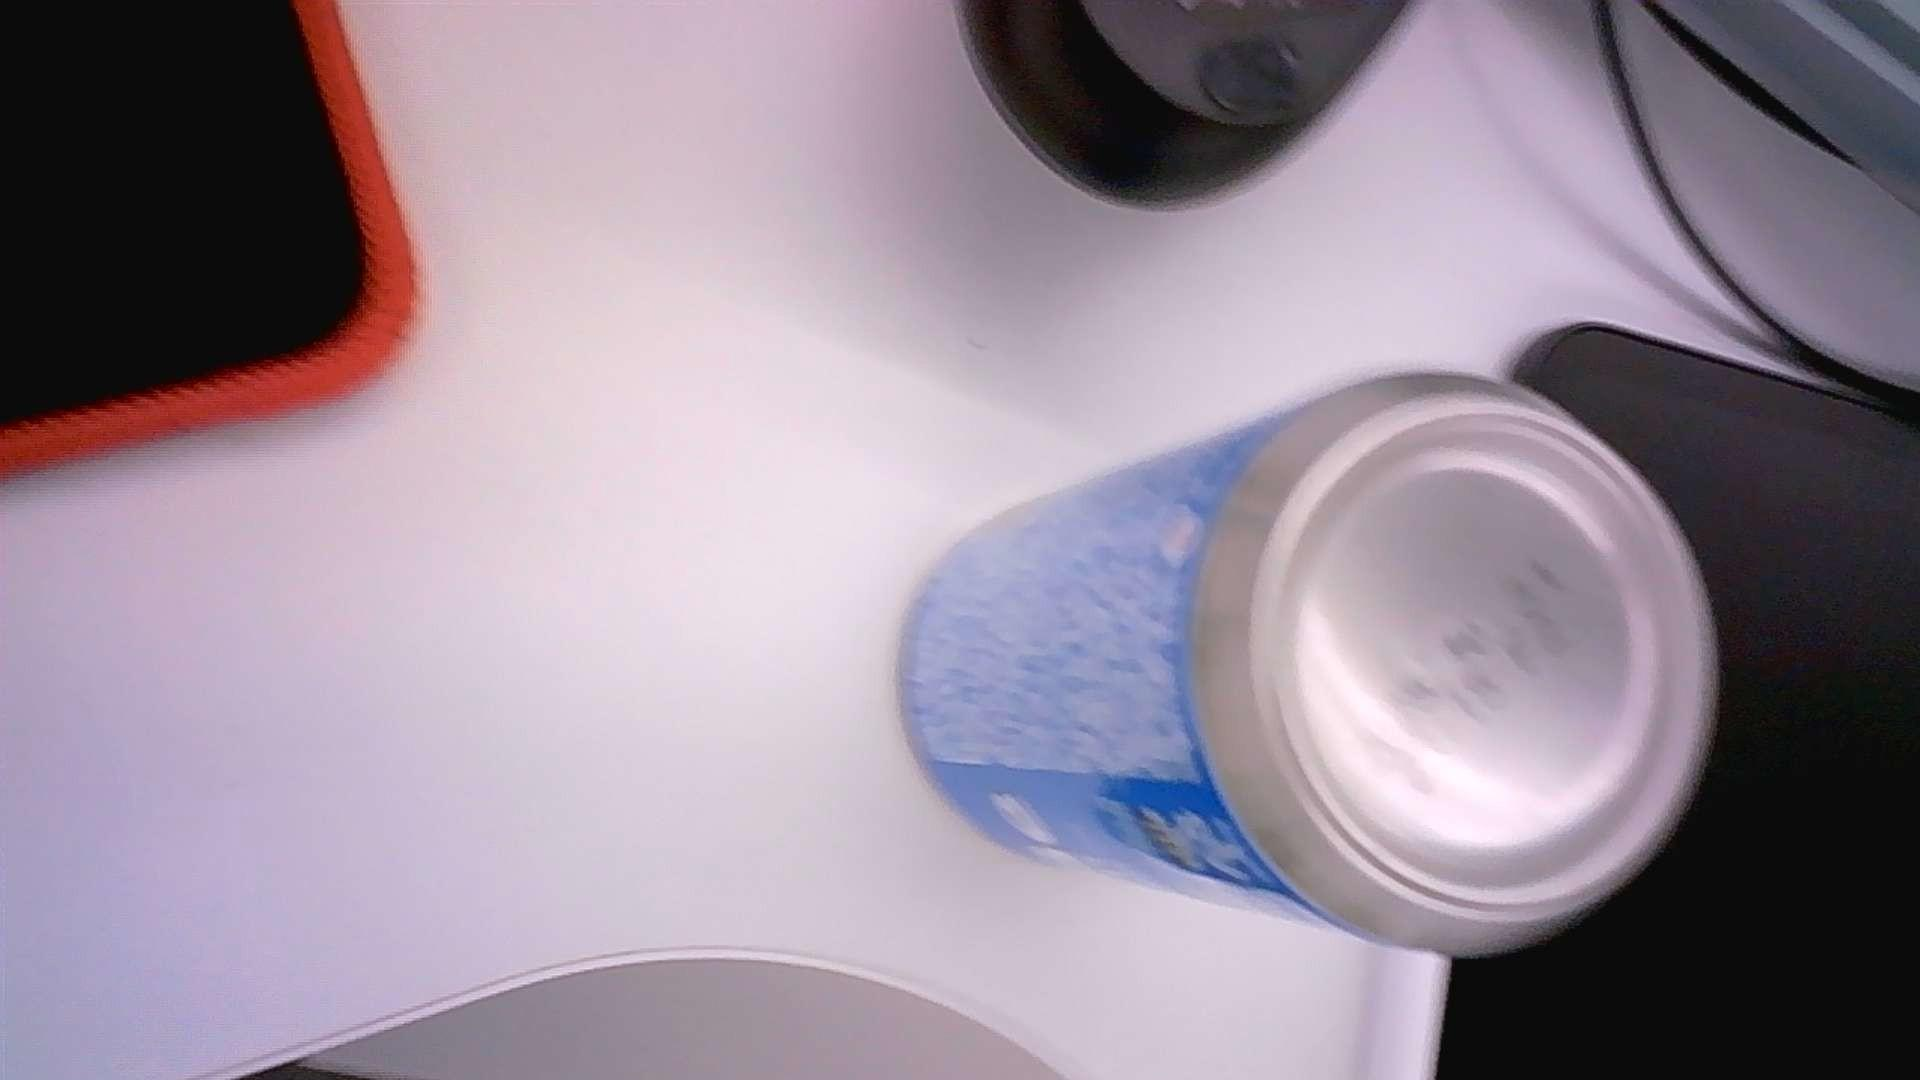letsbe: (898, 369, 1718, 959)
